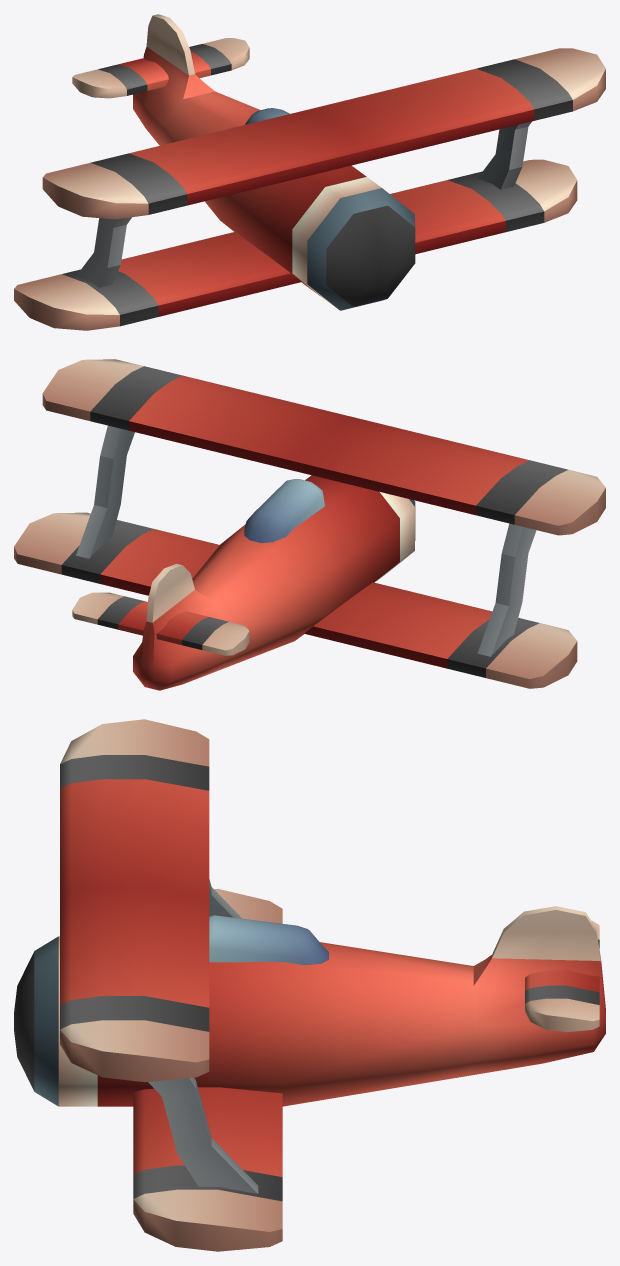
File: BiPlane001.fbx
3 renders of one model, top to bottom at view 1: azimuth 30°, elevation 25°; view 2: azimuth 150°, elevation 25°; view 3: azimuth 270°, elevation 25°, orthographic. The views are drawn at different scales.
Parts seen in each view (by area): view 1: Cube.002, Cube.007, Cube.001, Cube.003, Cube.006; view 2: Cube.002, Cube.007, Cube.001, Cube.006, Cube.003, Cube.005; view 3: Cube.007, Cube.002, Cube.001, Cube.006, Cube.005, Cube.003.
Boxes of the visible parts, bbox=[...] form: Cube.002: bbox=[42, 48, 605, 219]; Cube.007: bbox=[133, 14, 415, 310]; Cube.001: bbox=[14, 159, 577, 330]; Cube.003: bbox=[72, 38, 249, 98]; Cube.006: bbox=[76, 121, 531, 287]; Cube.002: bbox=[42, 359, 605, 535]; Cube.007: bbox=[133, 475, 415, 690]; Cube.001: bbox=[14, 512, 577, 688]; Cube.006: bbox=[76, 425, 536, 656]; Cube.003: bbox=[72, 592, 249, 655]; Cube.005: bbox=[244, 479, 324, 543]; Cube.007: bbox=[14, 906, 605, 1106]; Cube.002: bbox=[60, 719, 209, 1082]; Cube.001: bbox=[133, 889, 282, 1251]; Cube.006: bbox=[148, 879, 258, 1193]; Cube.005: bbox=[209, 915, 328, 964]; Cube.003: bbox=[525, 920, 599, 1032].
Bounding box in the file's own units: 1.6 × 0.4567 × 1.19.
1 material, 1 textured.
